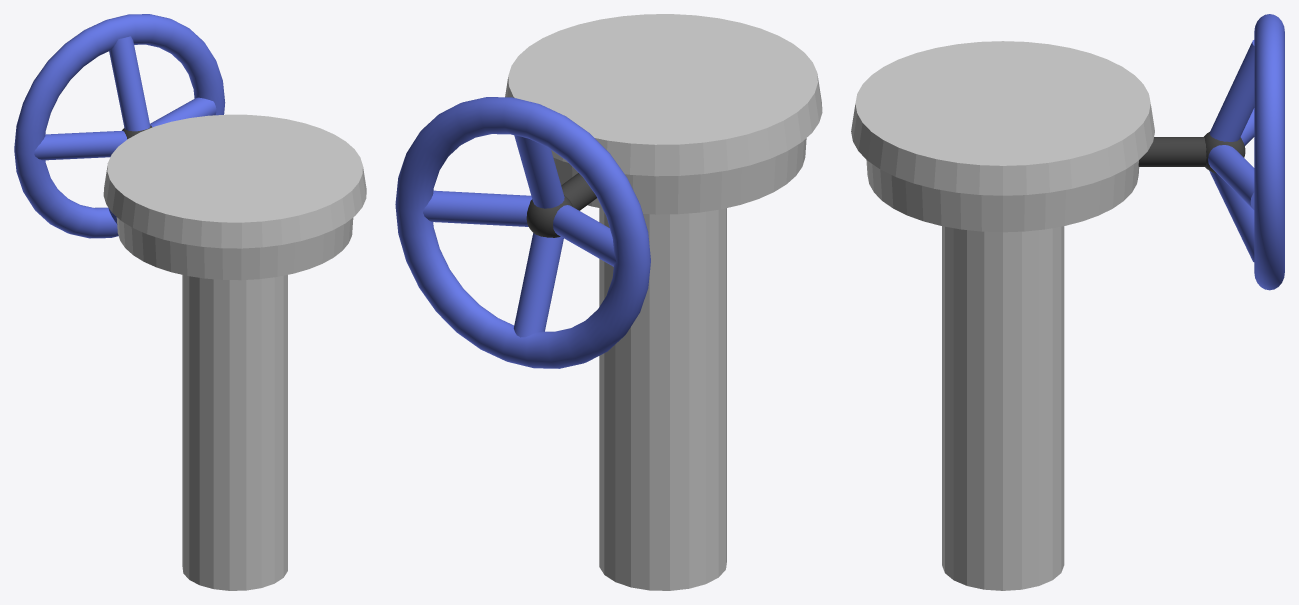
File: valve.fbx
3 views of the same model, side by side, from view 1: azimuth 30°, elevation 25°; view 2: azimuth 150°, elevation 25°; view 3: azimuth 270°, elevation 25° (orthographic). The views are drawn at different scales.
Parts seen in each view (by area): view 1: polySurface44, polySurface43; view 2: polySurface44, polySurface43; view 3: polySurface44, polySurface43.
Part boxes in pixels (x1,y1,x2,y2): polySurface44: [103, 114, 366, 590]; polySurface43: [14, 14, 225, 238]; polySurface44: [505, 14, 822, 590]; polySurface43: [395, 97, 650, 368]; polySurface44: [851, 41, 1154, 590]; polySurface43: [1138, 14, 1284, 290].
Size of the model in its own units: 2.38 by 4.65 by 3.4.
